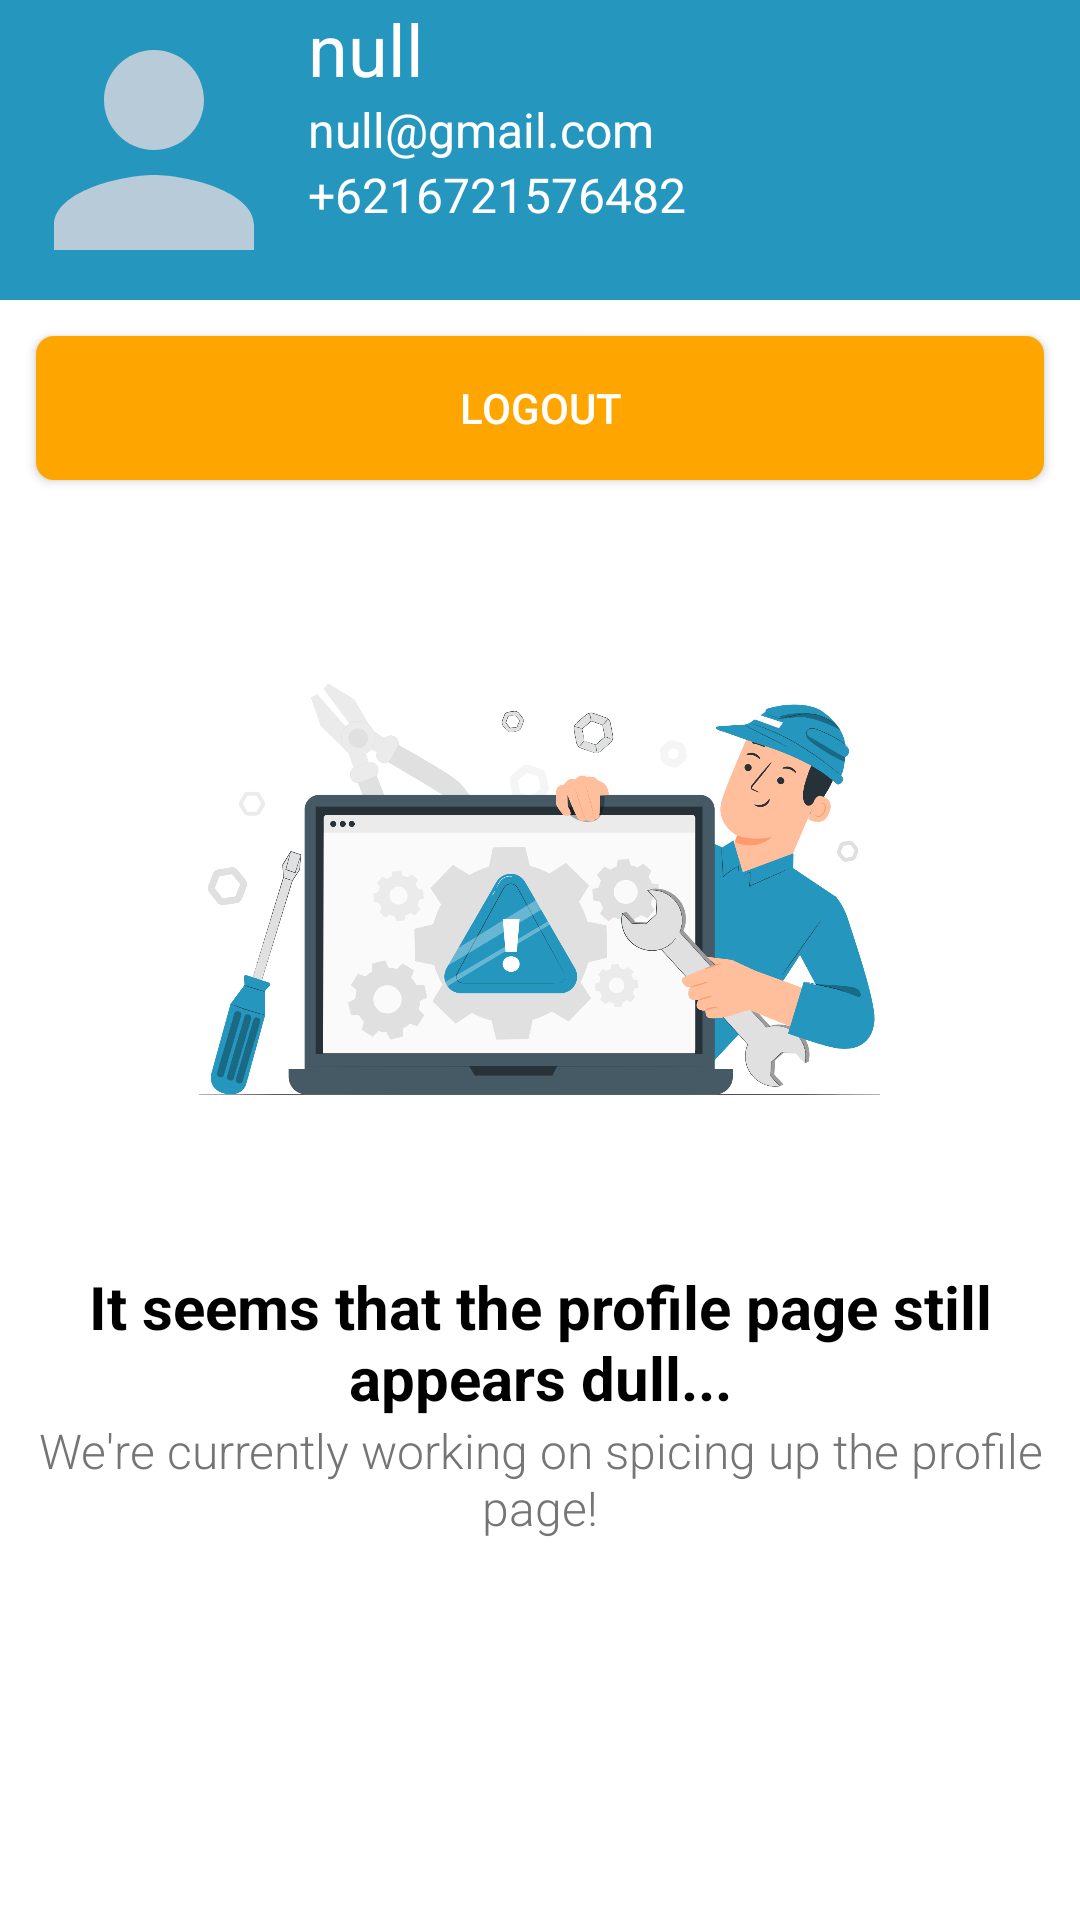

Screen size 1080w x 1920h. Icon name, then its center in pixels as [x,y]:
person: [154,150]
